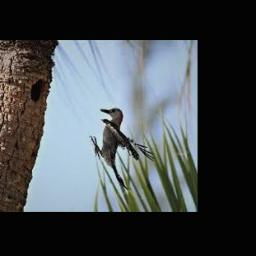Woodpecker: (90, 109, 156, 190)
